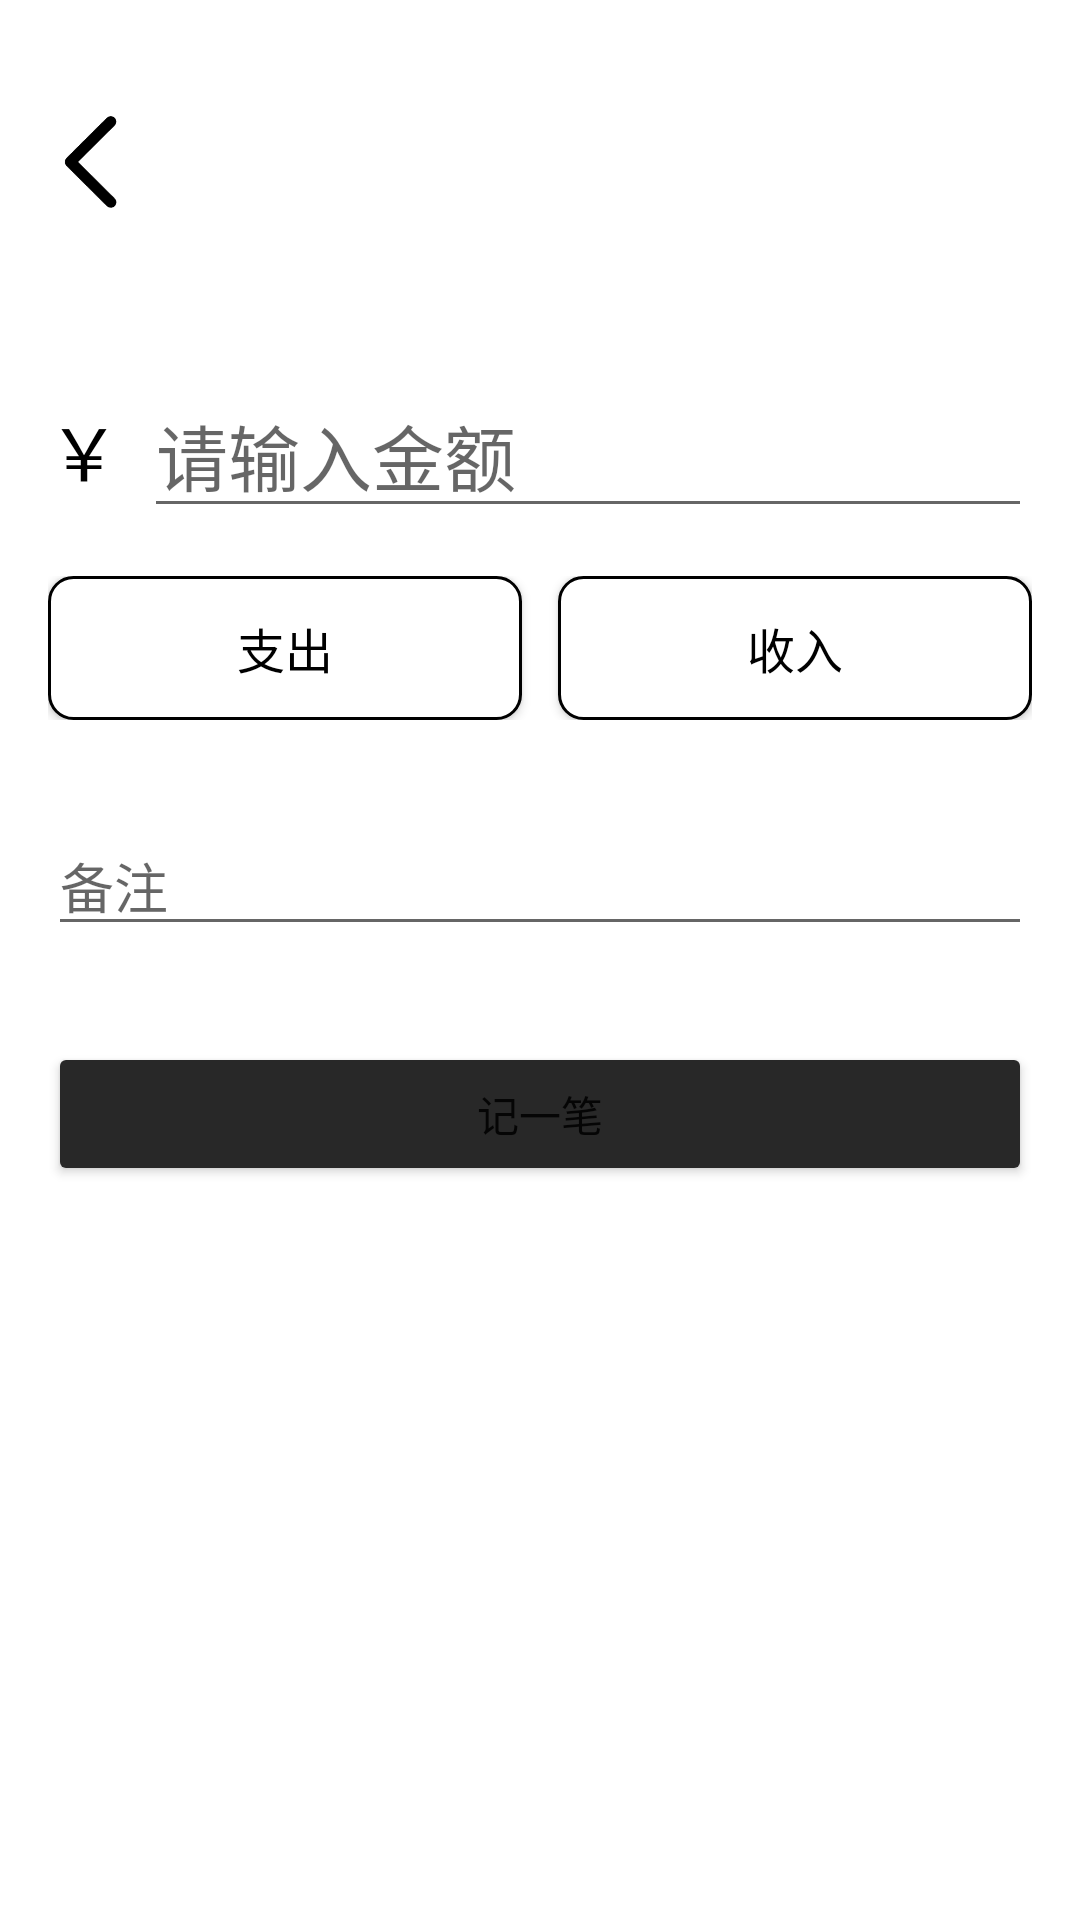

Icon bounding boxes for this 1080w x 1920h phone screenshot, format bbox(x1, y1, x2, y2):
返回: bbox(65, 116, 117, 208)
